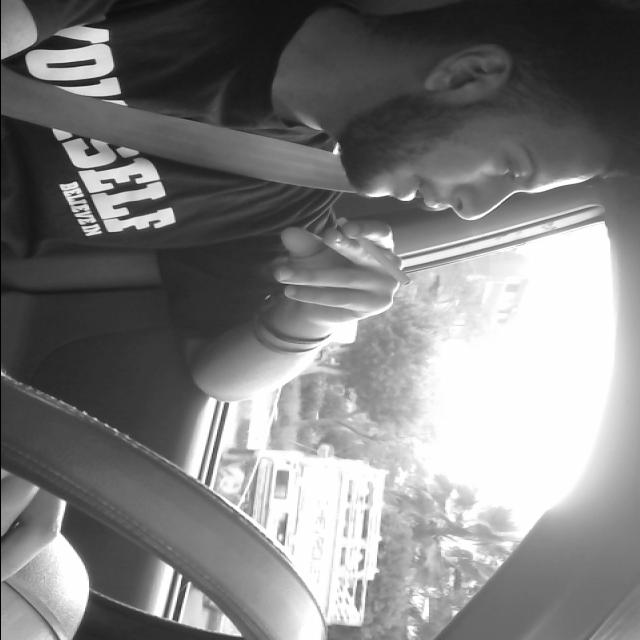smoking: (337, 220, 409, 282)
